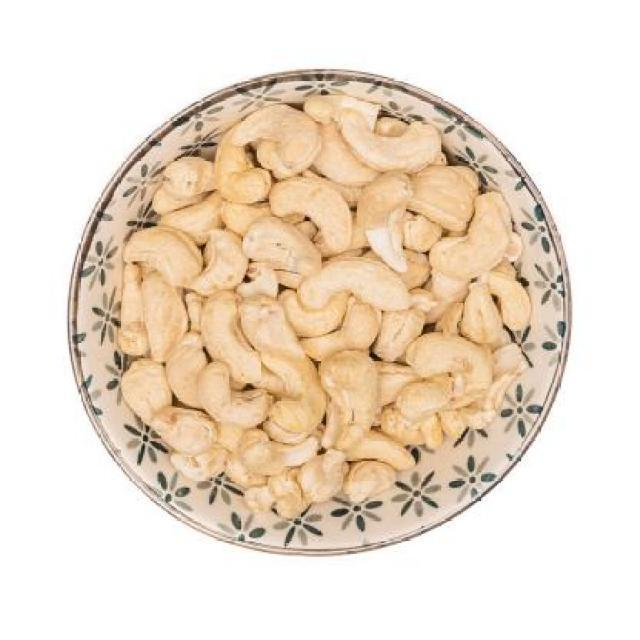Frutta secca: (117, 96, 548, 522)
